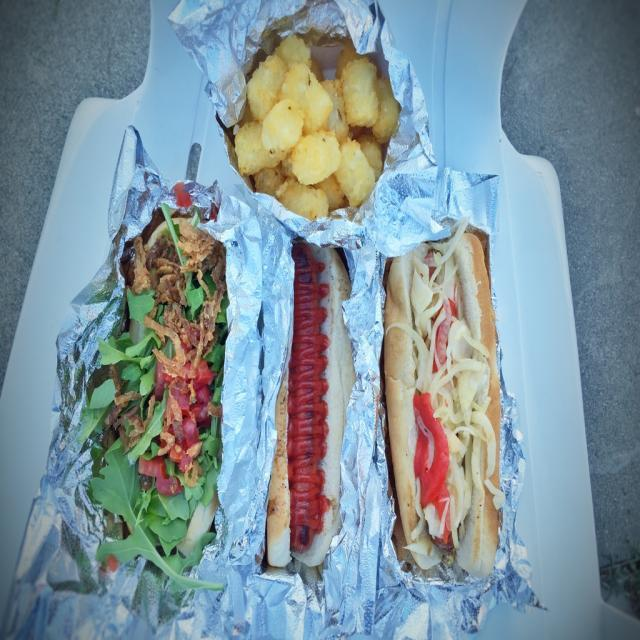Salad: (73, 204, 229, 594), (404, 236, 499, 561)
